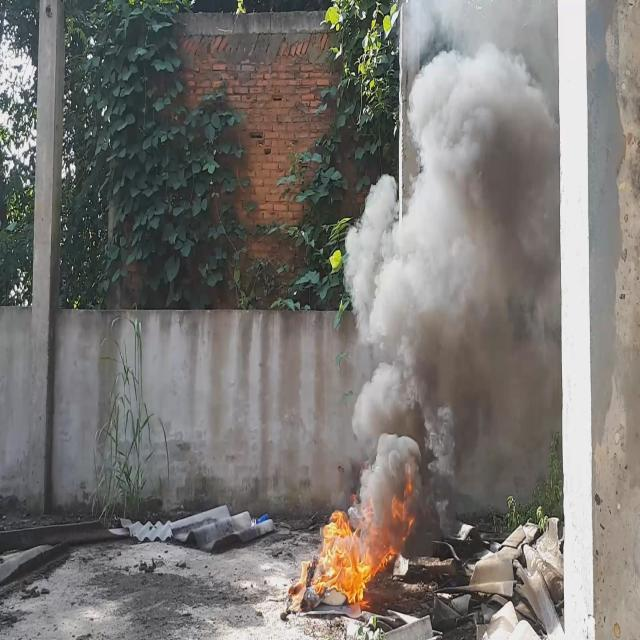Fire: (312, 494, 414, 606)
Smoke: (346, 0, 560, 545)
